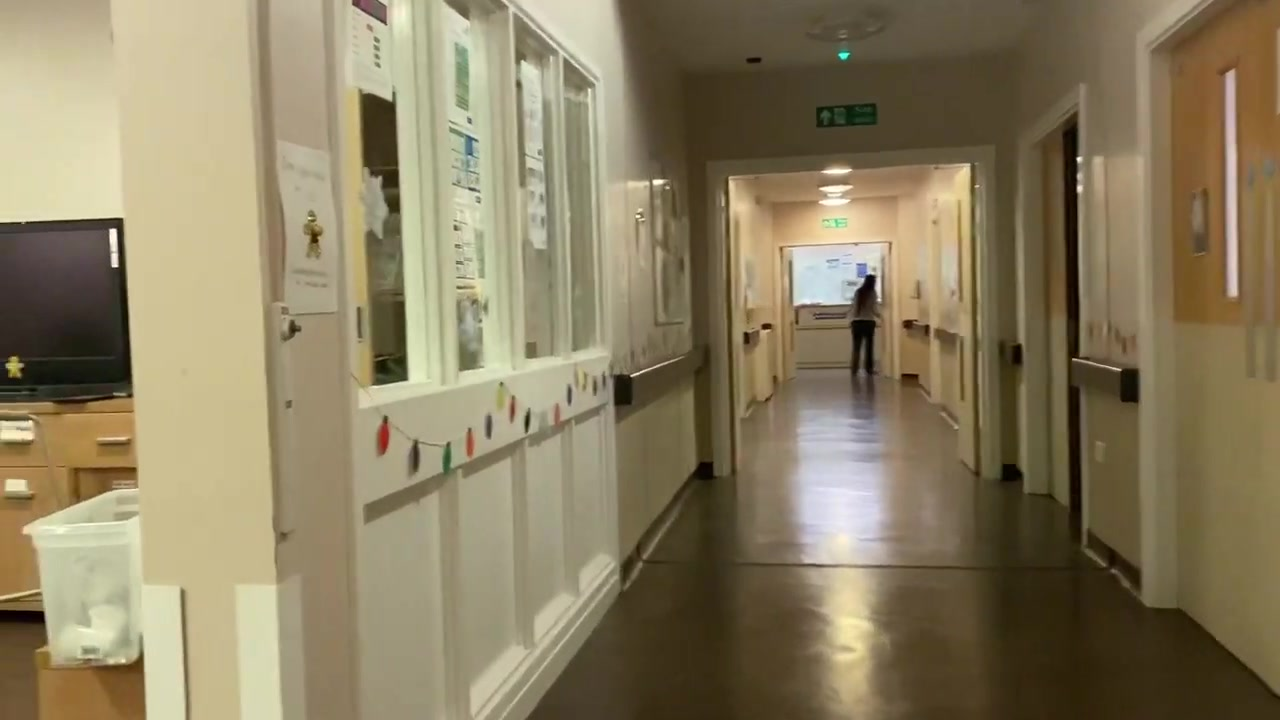TV: (1, 217, 138, 402)
door_handle: (1240, 159, 1280, 384)
drawer: (1, 407, 142, 616)
hallway_assist_bar: (611, 346, 707, 406), (1069, 354, 1139, 405)
handle: (1, 483, 34, 500), (1, 424, 36, 439), (95, 437, 131, 445)
person: (849, 274, 883, 376)
